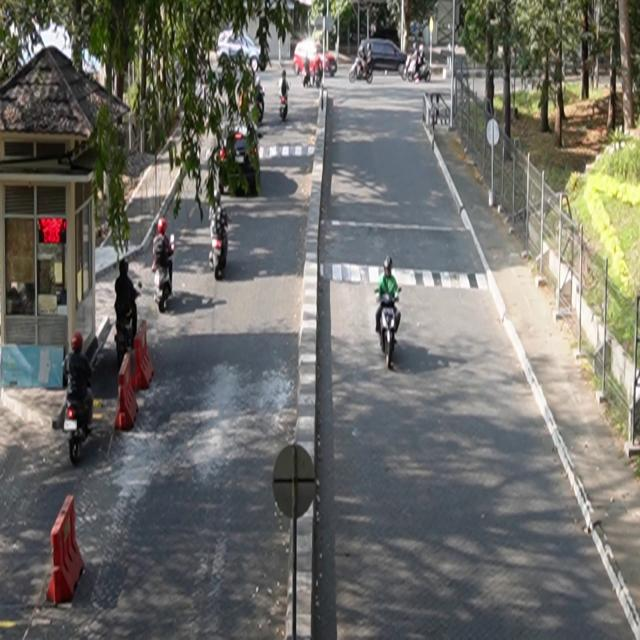car: (293, 39, 339, 78)
